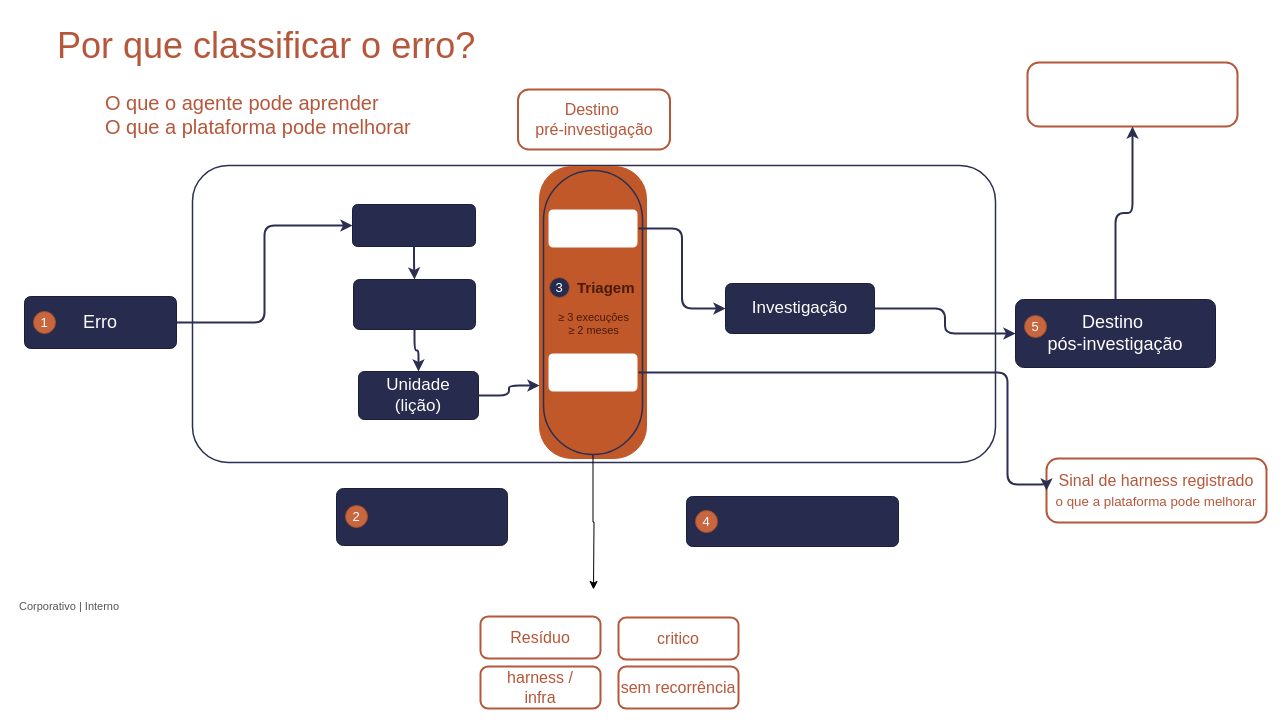
This 1284x726 diagram has some shape labels left out. The shapes that lost their labels are listed below. From the top down, each one's box as (x1, y1, x2, y2) in pixels, then its label:
(1026, 61, 1238, 127): Memória revisada o que o agente pode aprender
(352, 204, 476, 246): Assinatura
(546, 207, 639, 249): Memória candidata
(352, 278, 476, 330): Mecanismo (causa)
(546, 351, 639, 393): Sinal de harness
(336, 488, 508, 546): Classificar
(686, 496, 898, 546): Investigar
